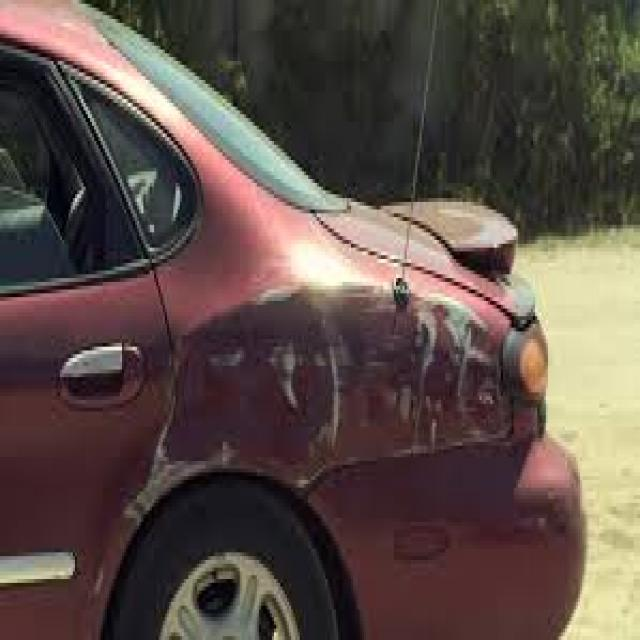minor: (49, 143, 538, 527)
